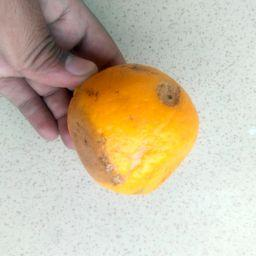Unripe: (69, 64, 199, 194)
